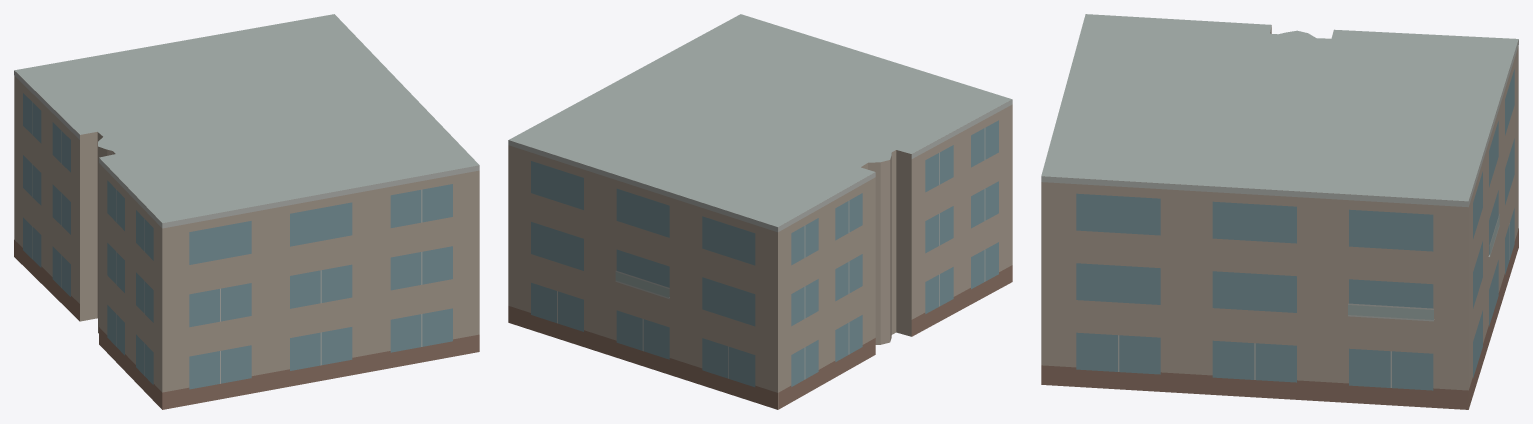
Rendered from survey-upis-32692215.glb.
The picture shows the model from 3 angles, left to right: view 1: azimuth 30°, elevation 25°; view 2: azimuth 150°, elevation 25°; view 3: azimuth 270°, elevation 25°; orthographic projection. The views are drawn at different scales.
Visible parts, largest first — view 1: survey-upis-32692215.tmp; view 2: survey-upis-32692215.tmp; view 3: survey-upis-32692215.tmp.
Part boxes in pixels (left/top/right/bottom): survey-upis-32692215.tmp: left=14, top=14, right=479, bottom=409; survey-upis-32692215.tmp: left=508, top=14, right=1012, bottom=409; survey-upis-32692215.tmp: left=1041, top=14, right=1518, bottom=409.
Bounding box in the file's own units: 16.77 × 8.7 × 18.07.
